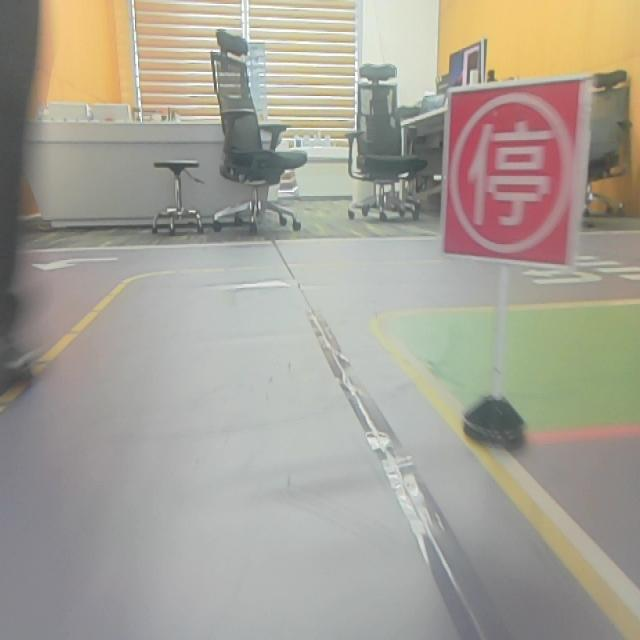left_lane: (0, 277, 125, 418)
right_lane: (376, 328, 640, 638)
